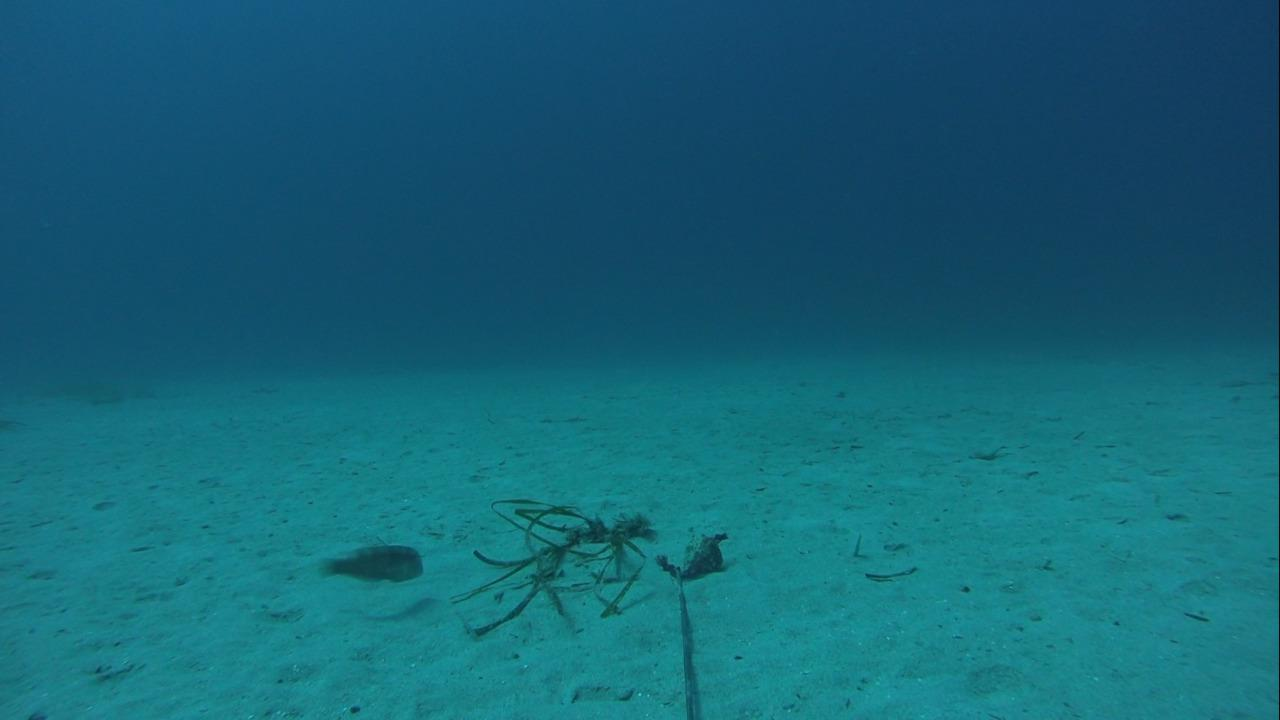raor: (310, 541, 424, 581)
